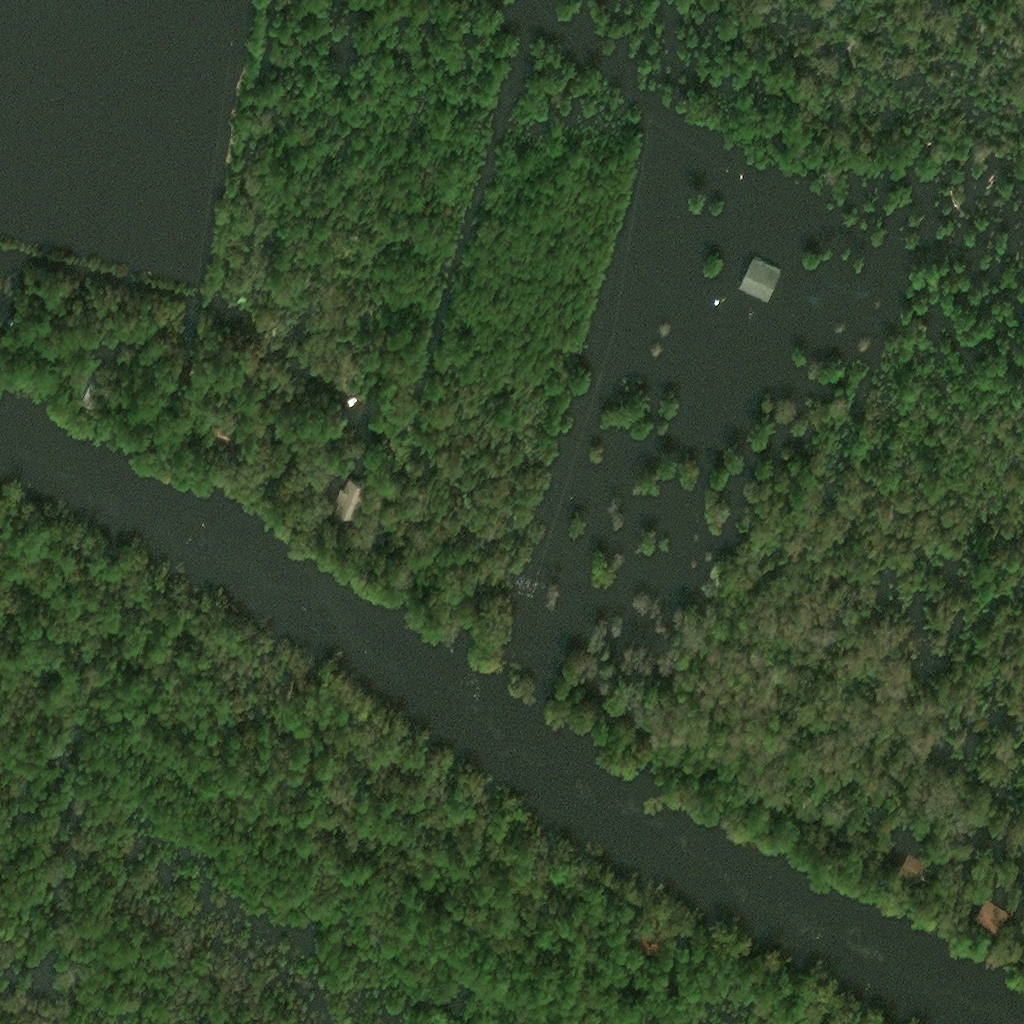major_damage: (736, 258, 780, 295), (329, 476, 365, 517), (969, 896, 1010, 929), (78, 380, 108, 413), (350, 405, 392, 428), (896, 852, 927, 880), (882, 817, 910, 843)
